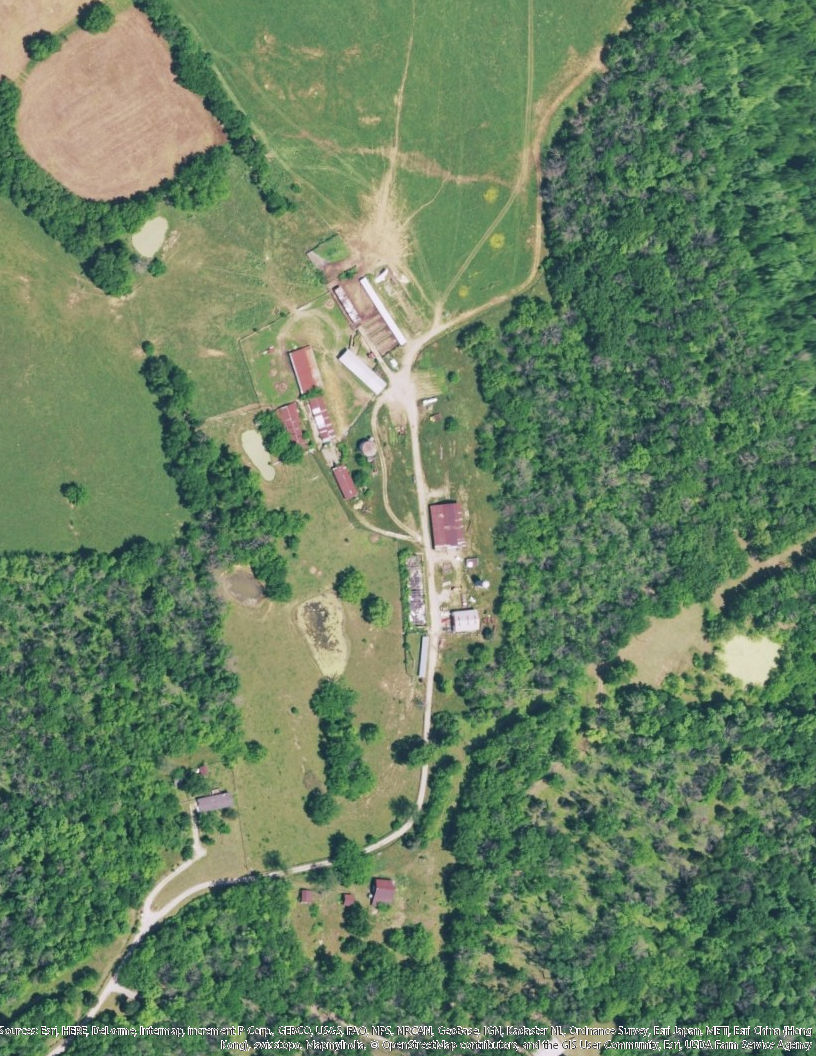cafo: (339, 349, 388, 396), (287, 345, 323, 398), (429, 500, 467, 550), (273, 403, 305, 449), (308, 400, 336, 444), (333, 463, 358, 500)
